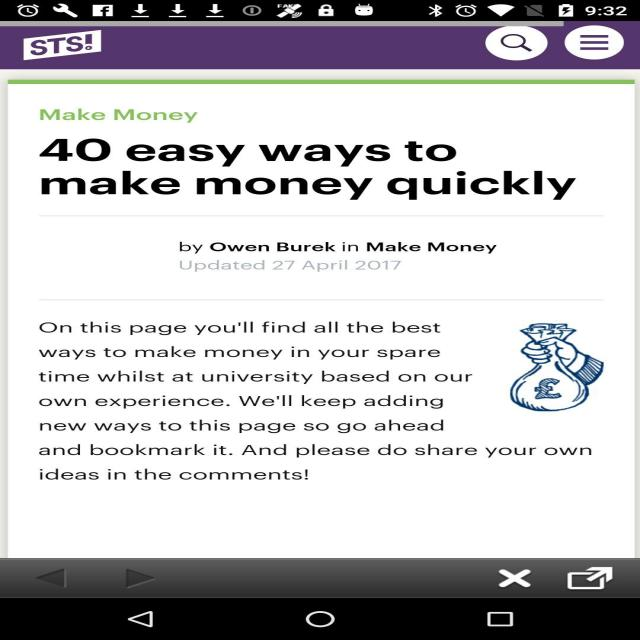button: (483, 560, 636, 602), (479, 24, 633, 62)
image: (494, 312, 640, 424), (3, 25, 164, 65)
text: (34, 299, 640, 520), (35, 87, 598, 214), (164, 223, 515, 281)
